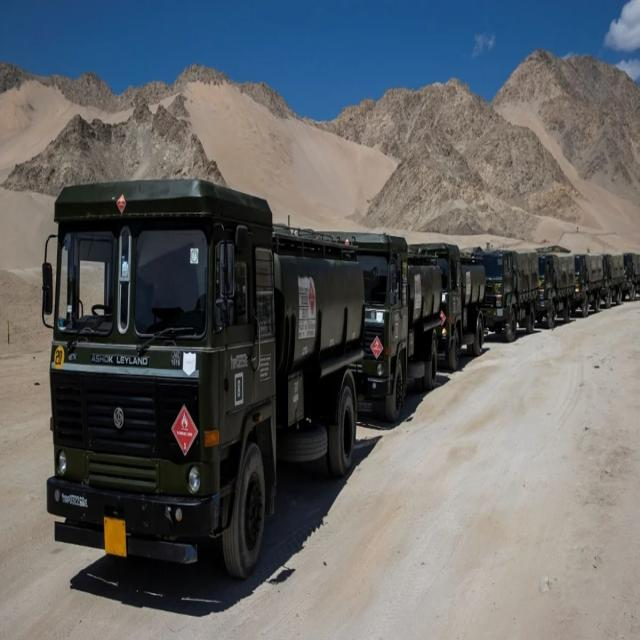military-plate: (61, 490, 90, 510), (227, 352, 251, 374)
